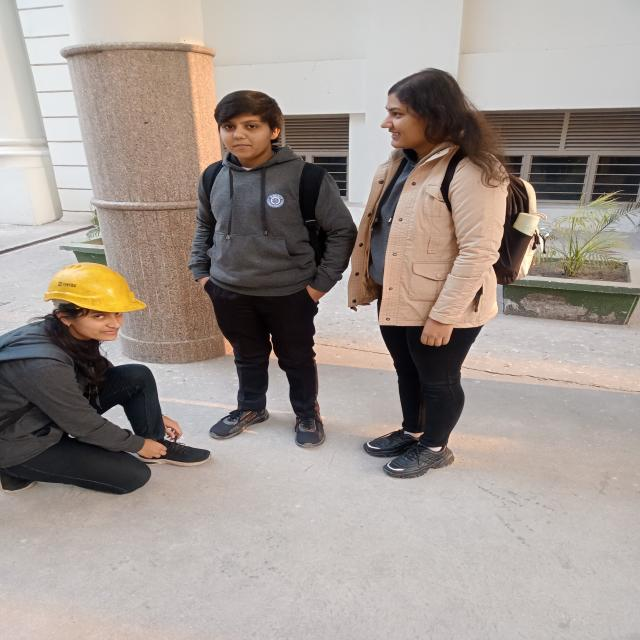no jacket: (0, 258, 211, 499)
unsafe: (360, 66, 525, 480), (179, 88, 353, 452)
